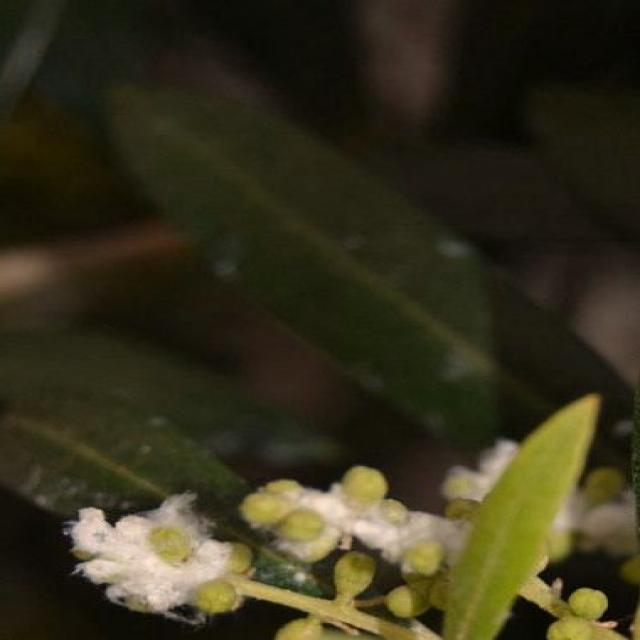Psyllid: (66, 493, 251, 627), (241, 466, 463, 577), (546, 468, 638, 562), (445, 439, 519, 535)
